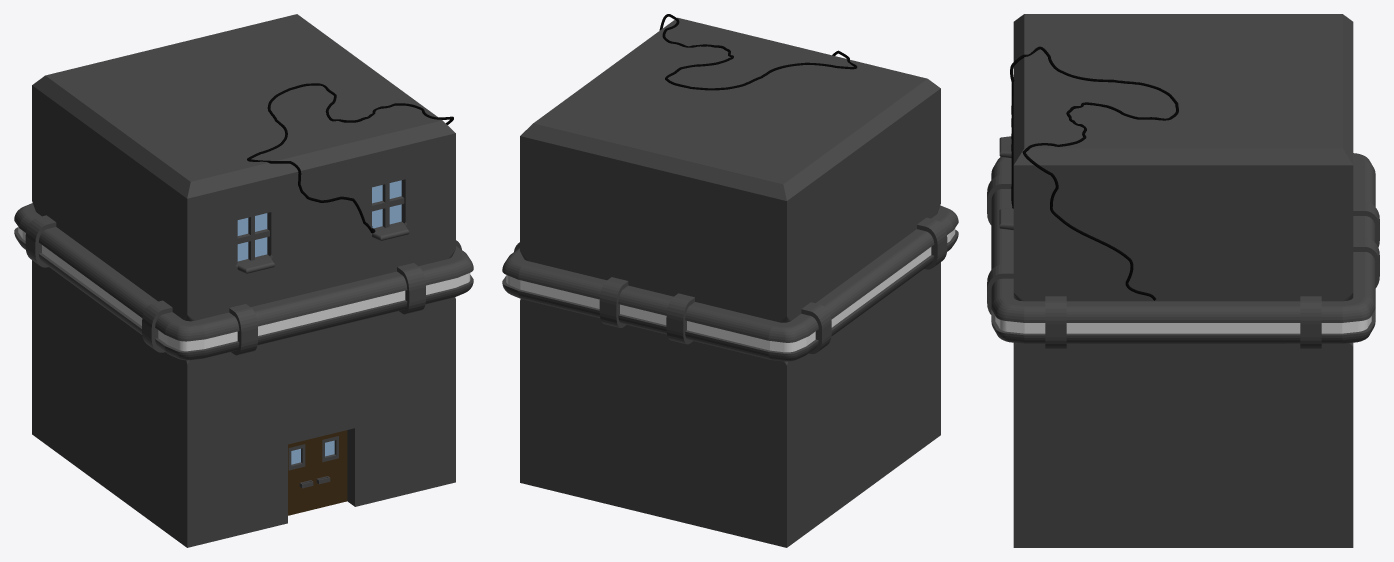
File: WireBulding.fbx
3 views of the same model, side by side, from view 1: azimuth 30°, elevation 25°; view 2: azimuth 150°, elevation 25°; view 3: azimuth 270°, elevation 25° (orthographic). The views are drawn at different scales.
Visible parts, largest first — view 1: Bulding 2; view 2: Bulding 2; view 3: Bulding 2.
Boxes of the visible parts, <box> form: Bulding 2: <box>14,14,473,547</box>; Bulding 2: <box>502,14,958,547</box>; Bulding 2: <box>987,14,1379,547</box>.
Bounding box in the file's own units: 795 × 887 × 795.
